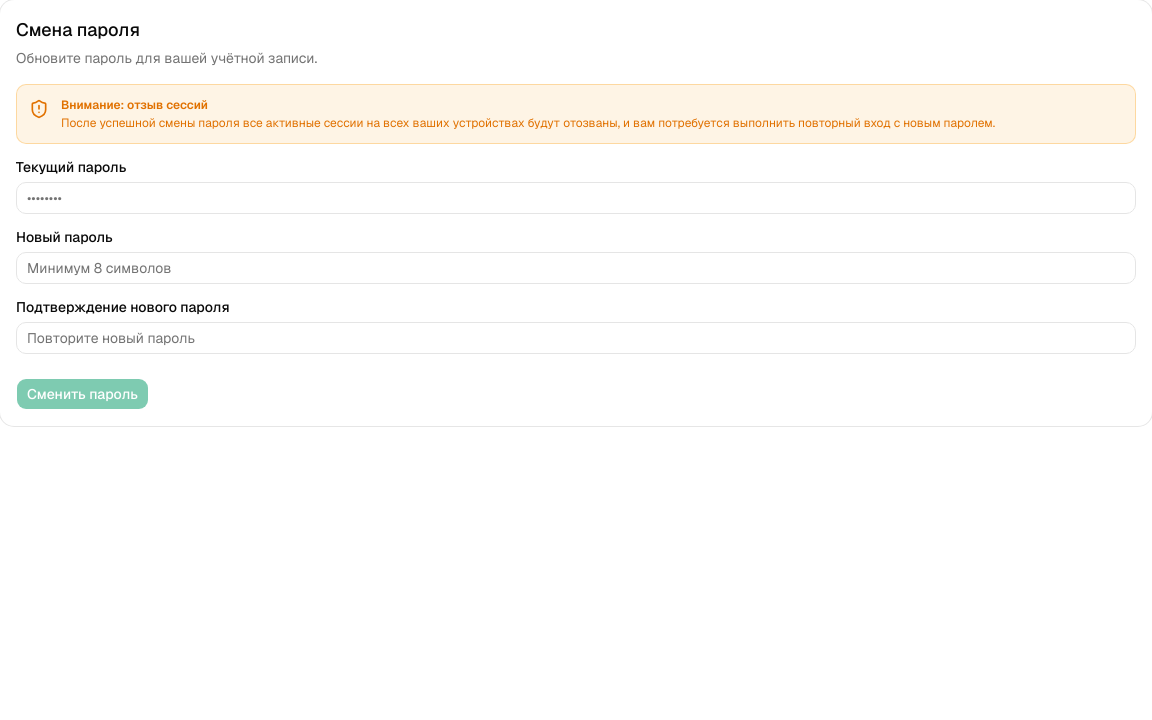
SecurityForm › shows error if new password and confirmation do not match
This screenshot has width=1152, height=720.
Type "OldPassword123!" into the password field labelled "Текущий пароль" at [576, 198], box [16,182,1136,214]
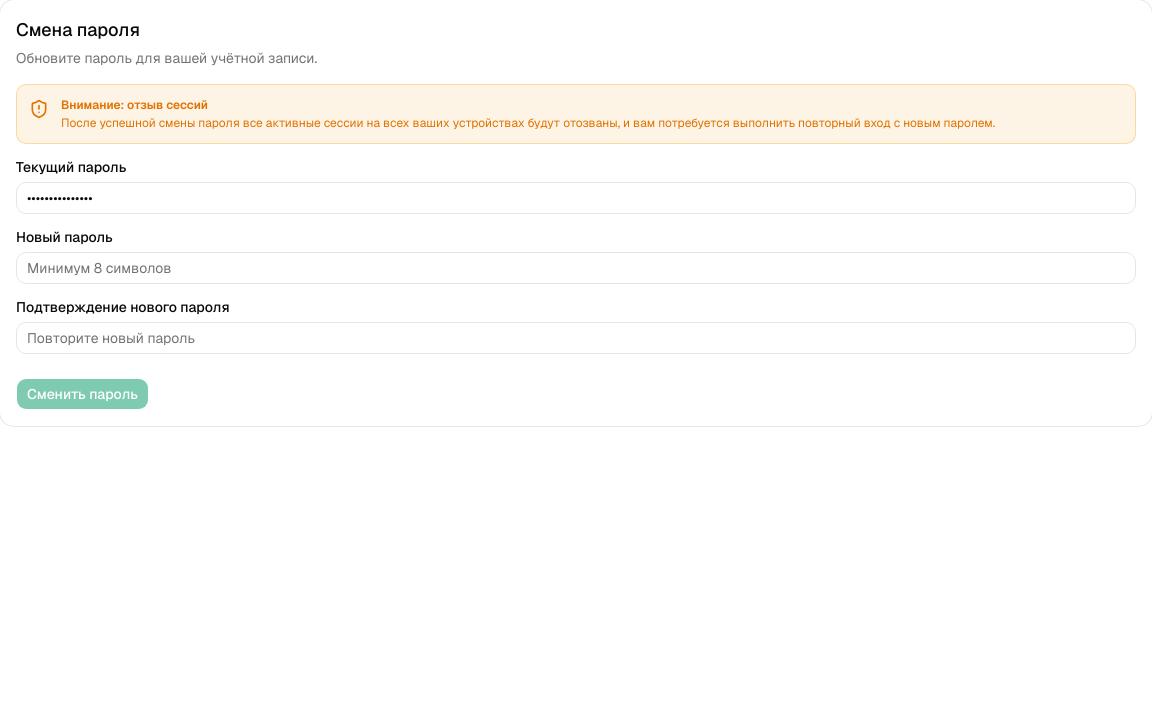
Type "NewPassword123!" into the password field labelled "Новый пароль" at [576, 268], box [16,252,1136,284]
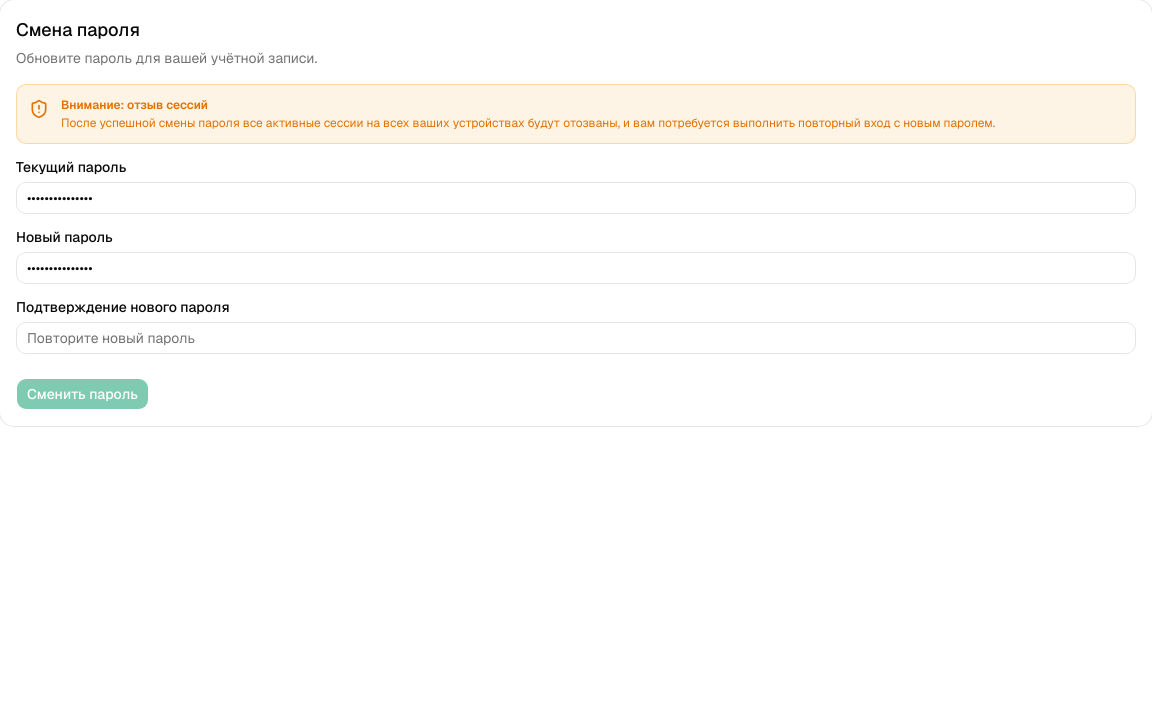
Type "MismatchPassword123!" into the password field labelled "Подтверждение нового пароля" at [576, 338], box [16,322,1136,354]
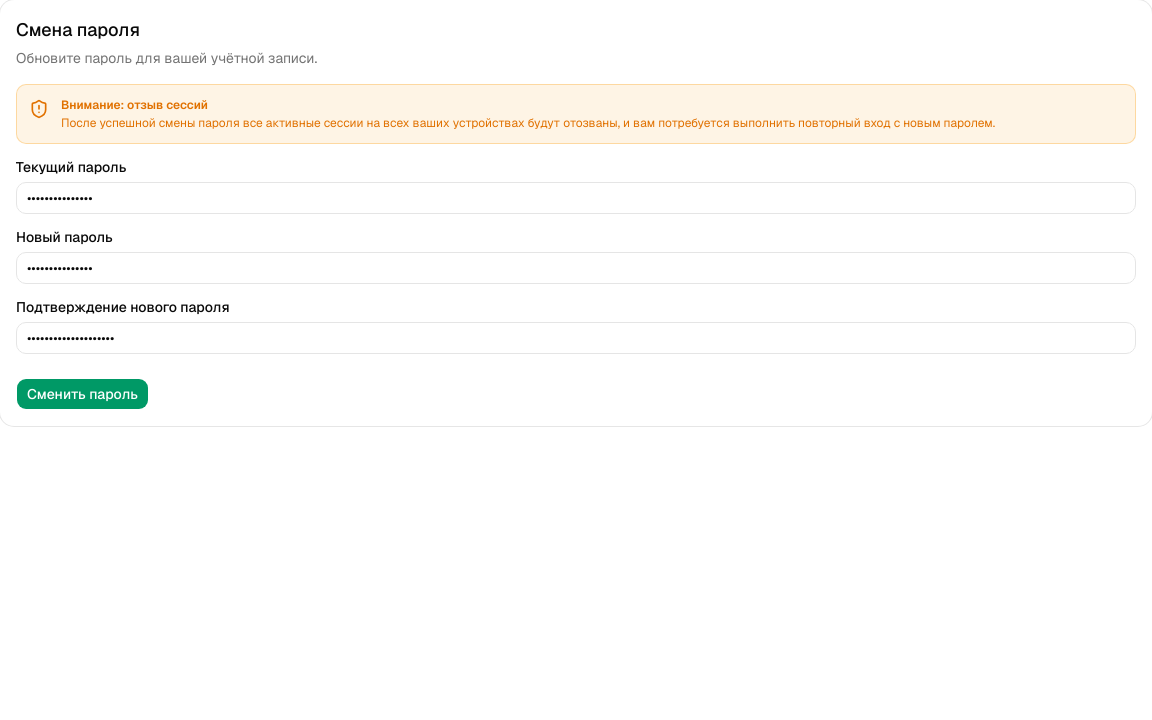
Click the button "Сменить пароль" at [82, 394], box [16,378,149,410]
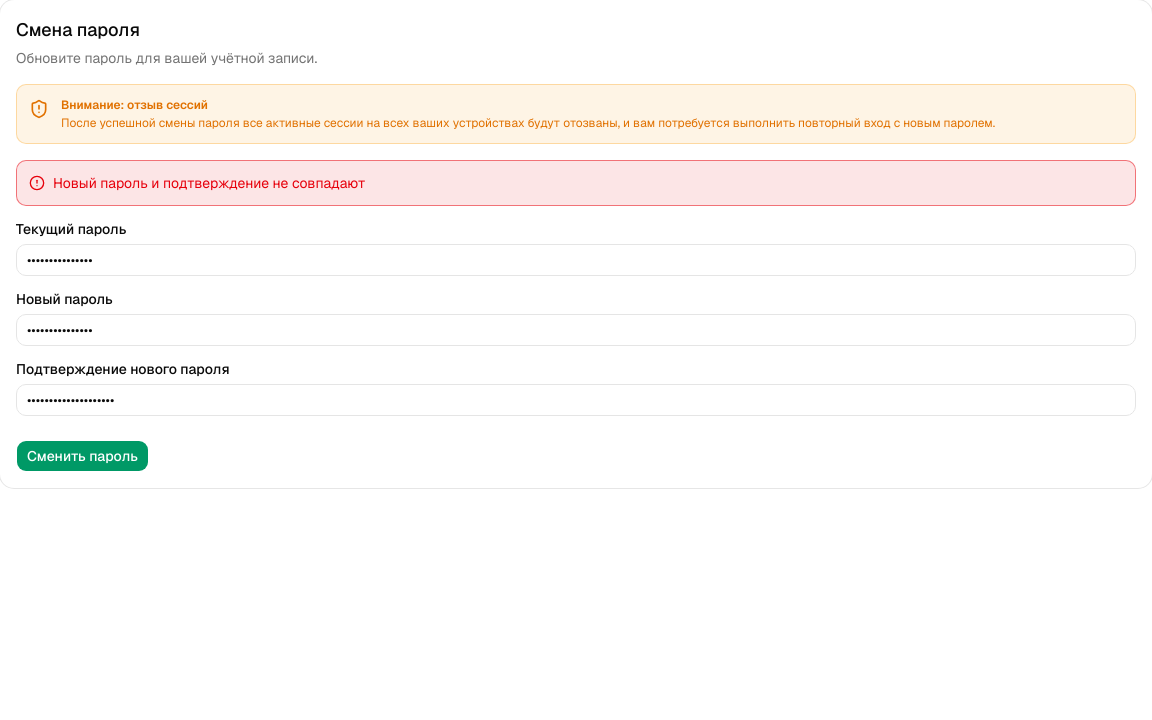
expect the message reads "Новый пароль и подтверждение не совпадают": met, box [53,174,366,192]
